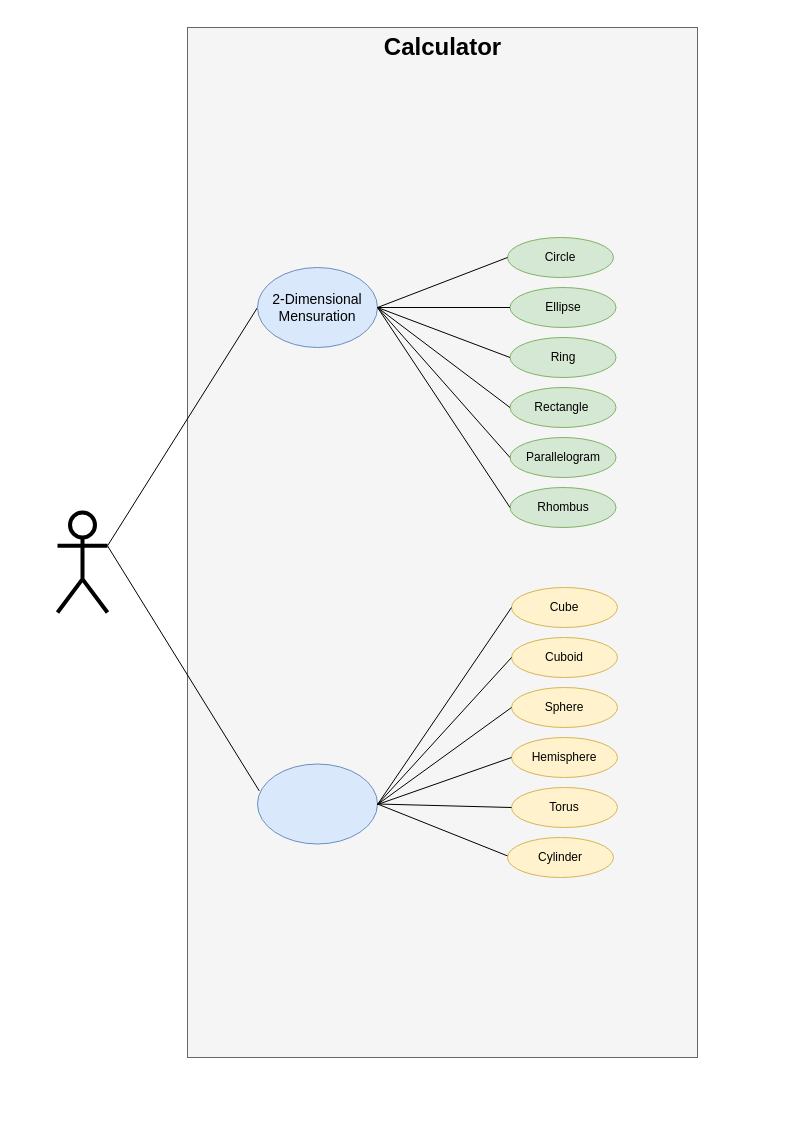
The diagram is 804 pixels wide and 1134 high, and some of its shapes have lost their labels. The box of each missing label's shape, as (x1, y1, x2, y2) in pixels:
3-Dimensional Mensuration: (256, 763, 378, 844)
User: (55, 510, 109, 614)
